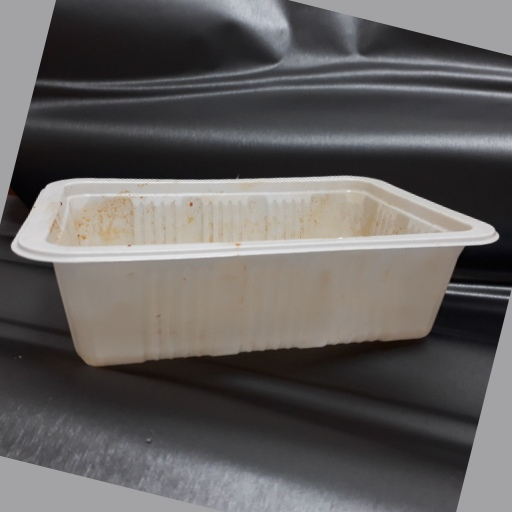Plastic_4: (5, 168, 501, 365)
